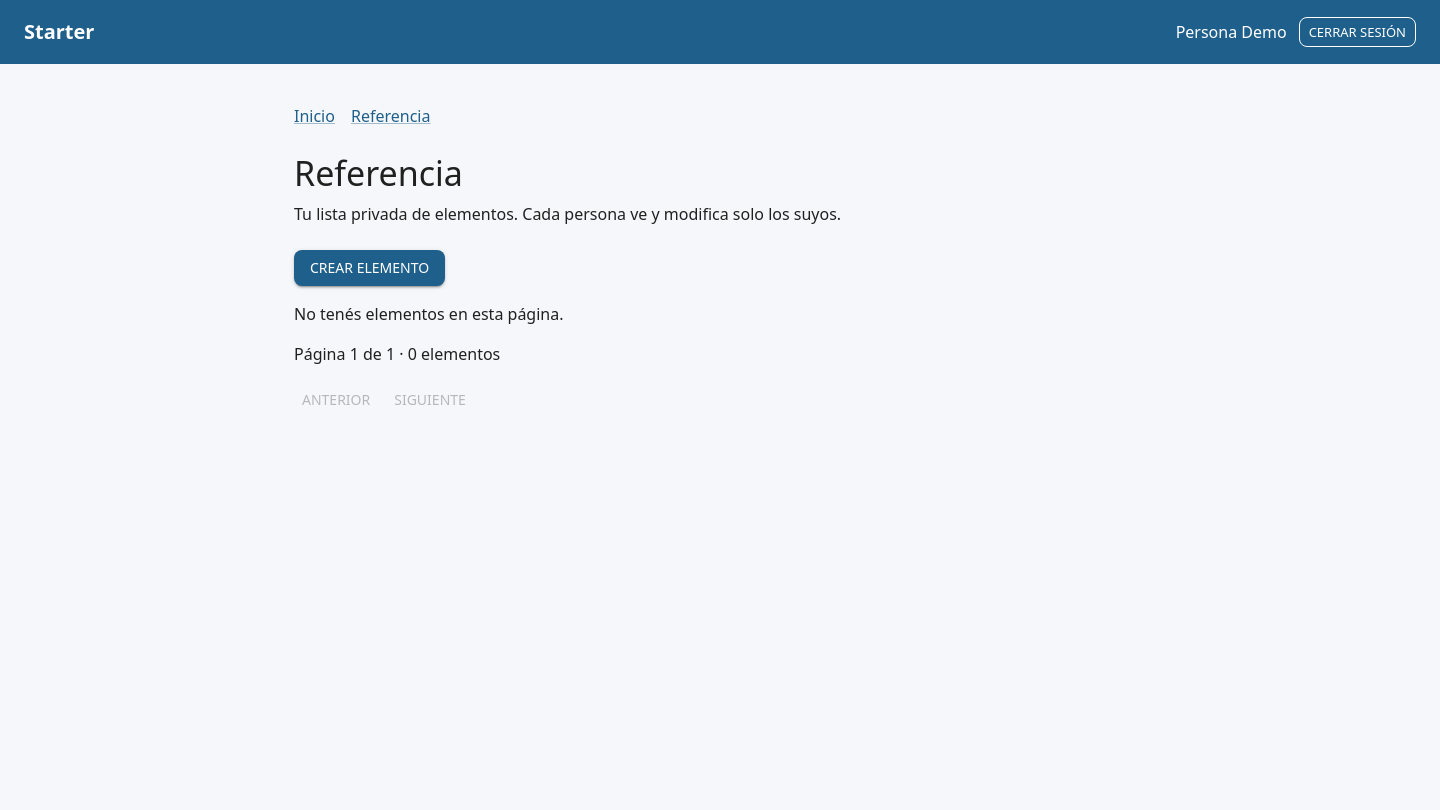
it: ReferencePage › creates with real providers, validation, plain text and restored focus
Check: the text "No tenés elementos en esta página." is shown, box top-left (294, 304), bottom-right (564, 326)
Click the button "Crear elemento": (370, 268) top-left (294, 250), bottom-right (445, 286)
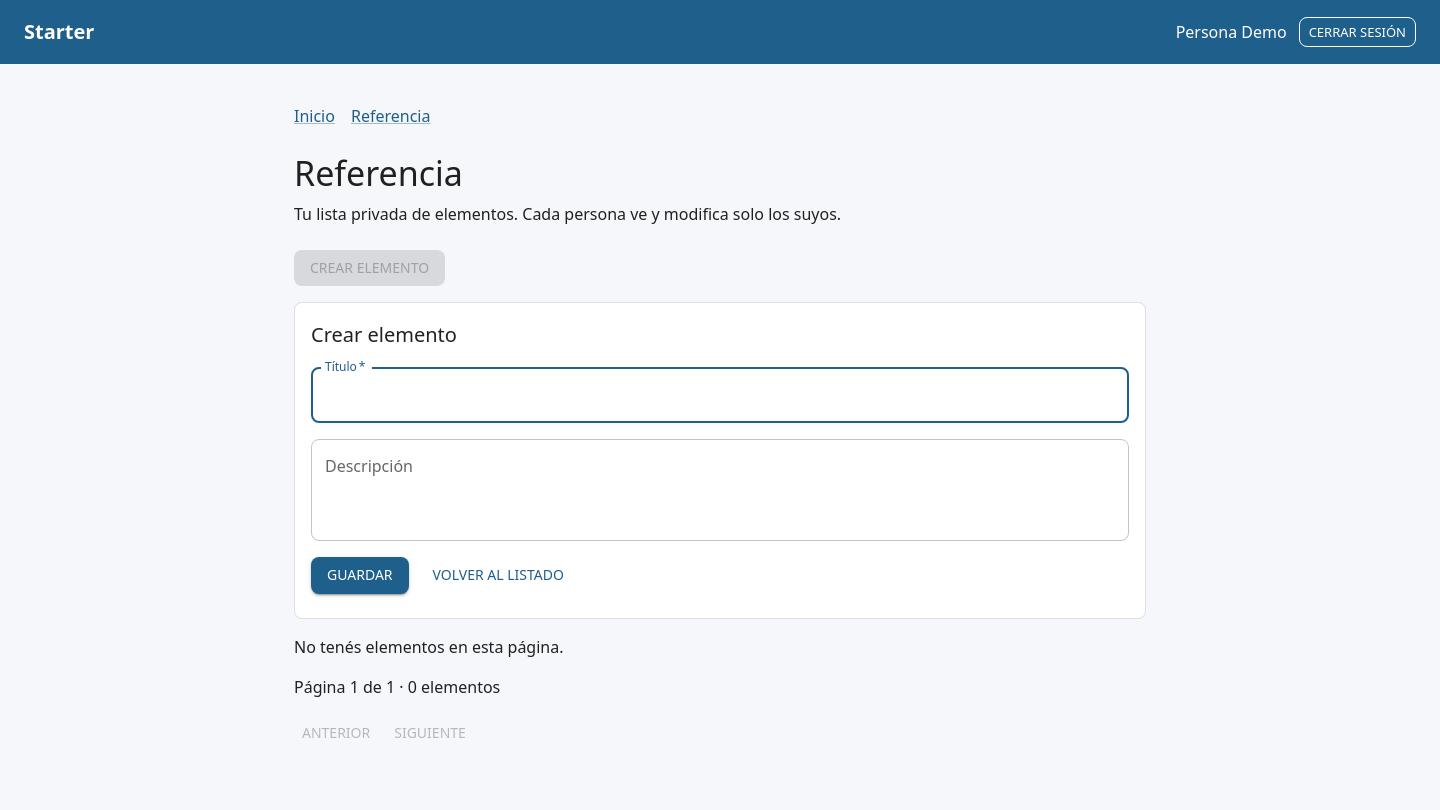
Click the button "Guardar": (360, 576) top-left (311, 558), bottom-right (408, 594)
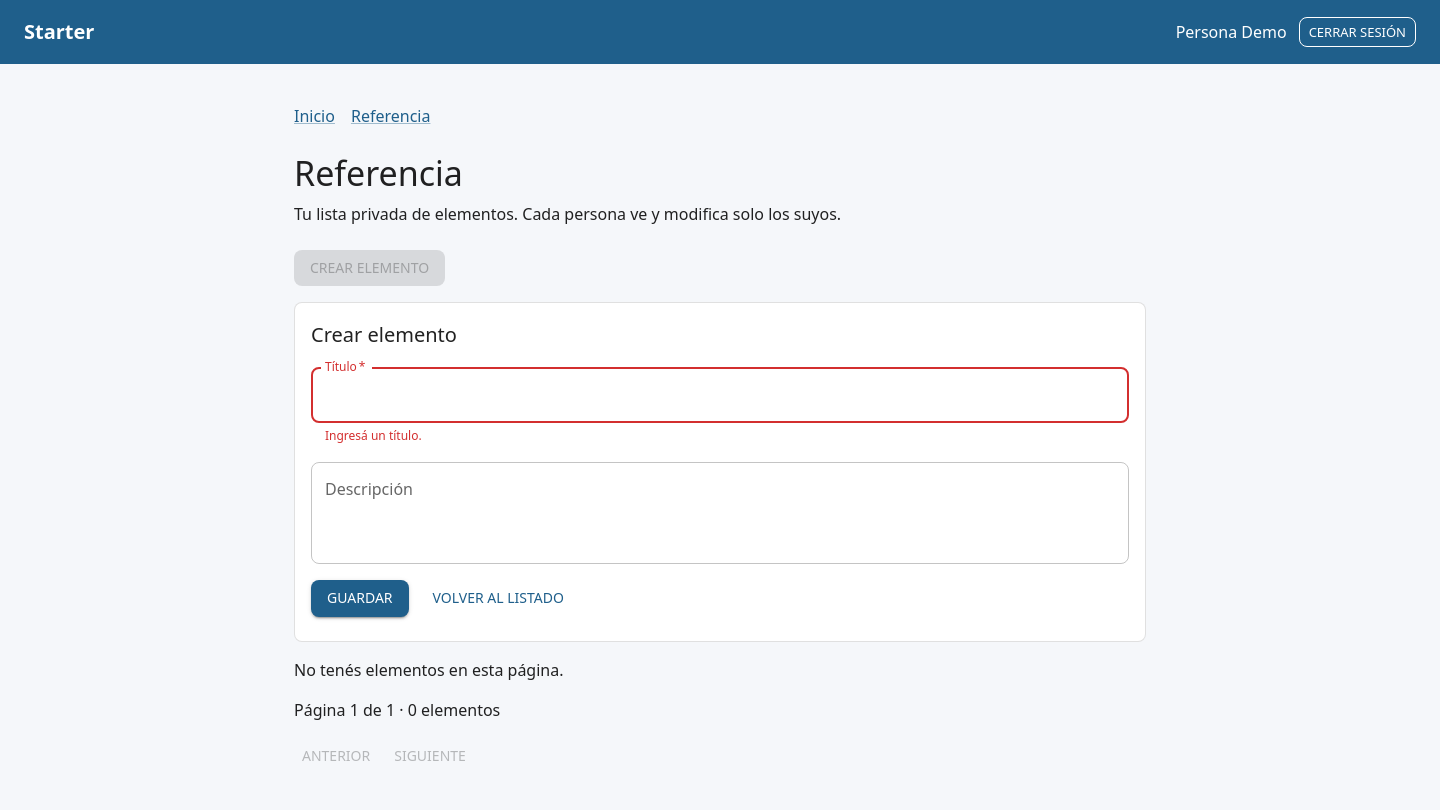
In the field labelled "Título *": (720, 396) top-left (311, 368), bottom-right (1129, 424), type "  Elemento A "
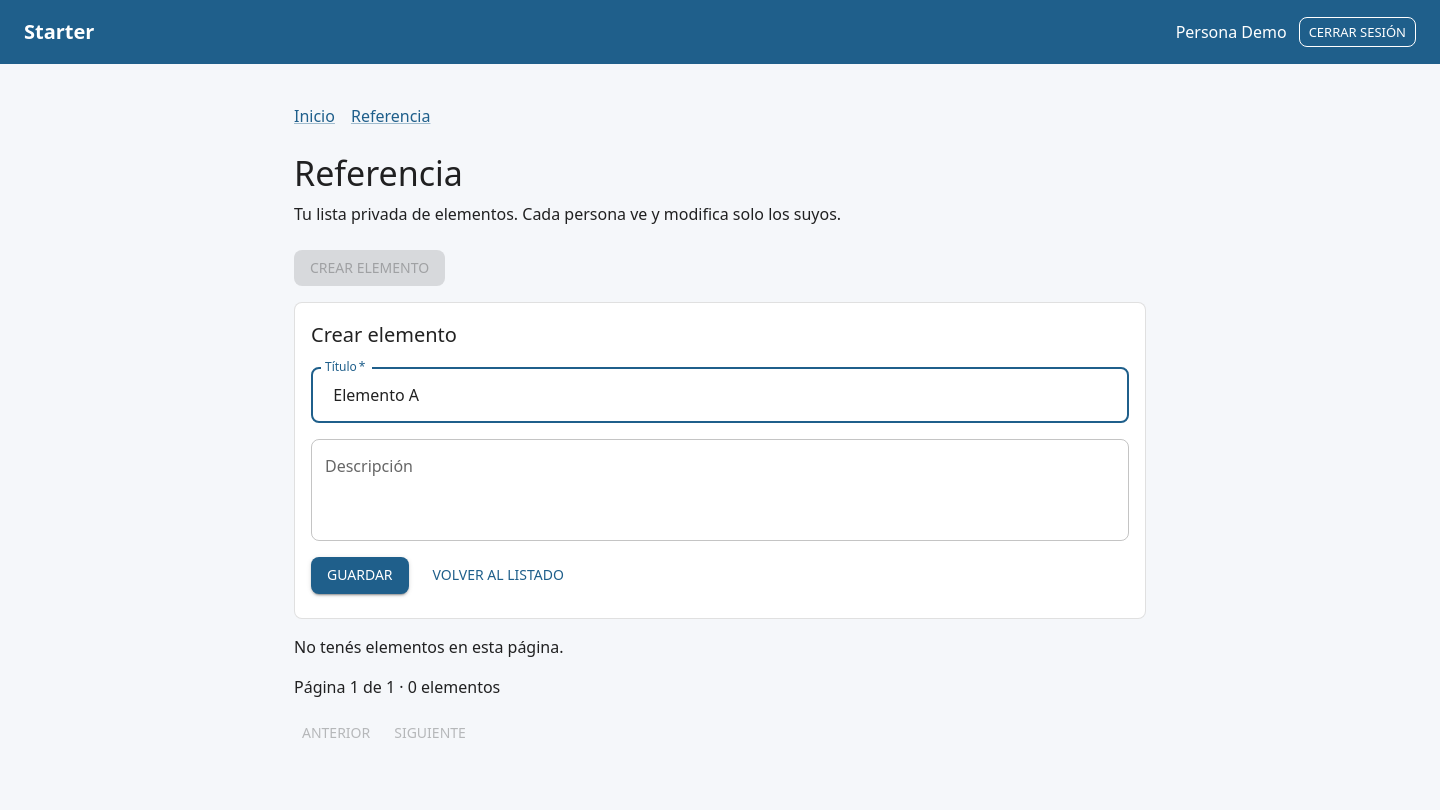
In the text box labelled "Descripción": (720, 490) top-left (325, 456), bottom-right (1115, 525), type "<b>Texto plano</b>"
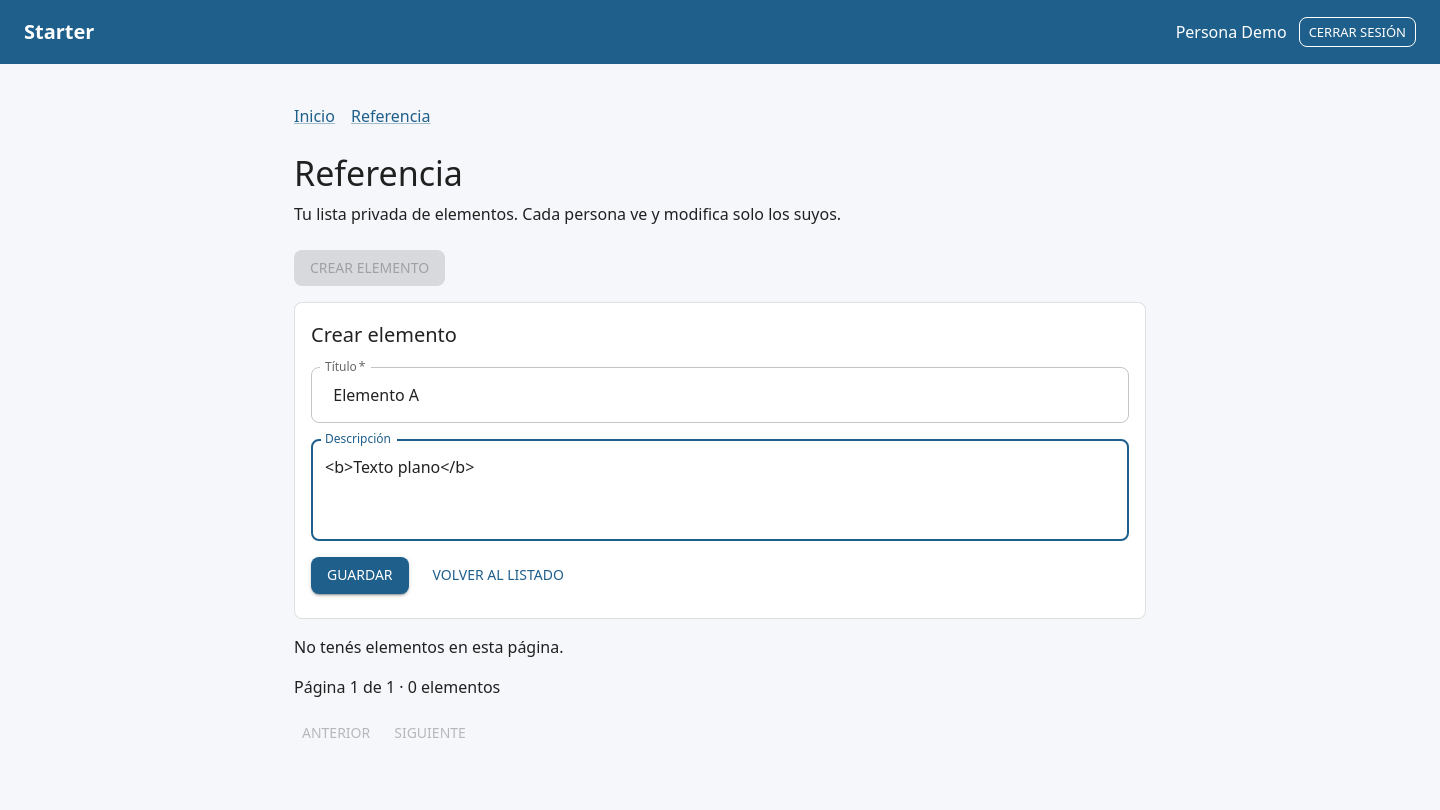
Click the button "Guardar": (360, 576) top-left (311, 558), bottom-right (408, 594)
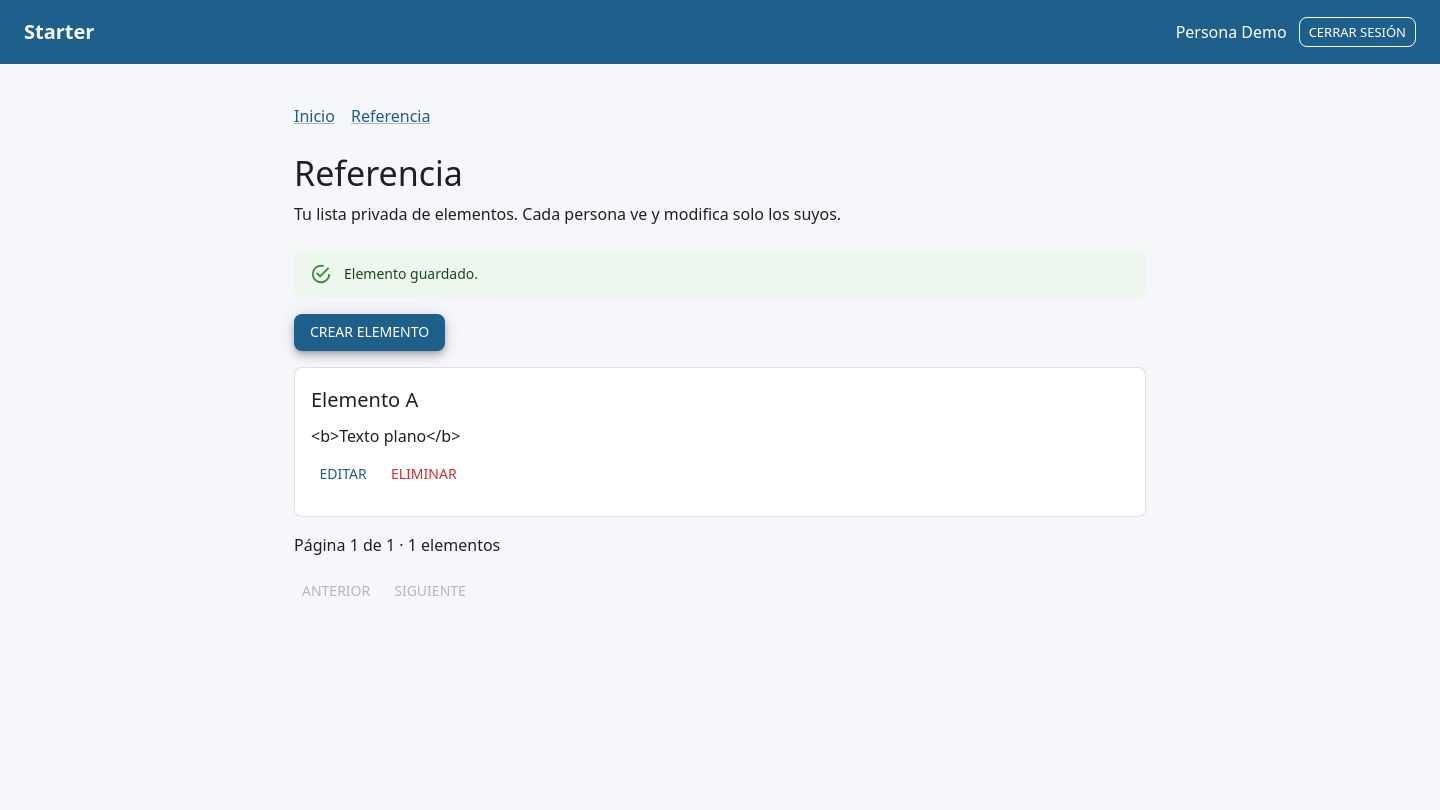
Check: the heading "Elemento A" is shown, box top-left (311, 386), bottom-right (418, 412)
Check: the text "<b>Texto plano</b>" is shown, box top-left (311, 424), bottom-right (460, 446)
